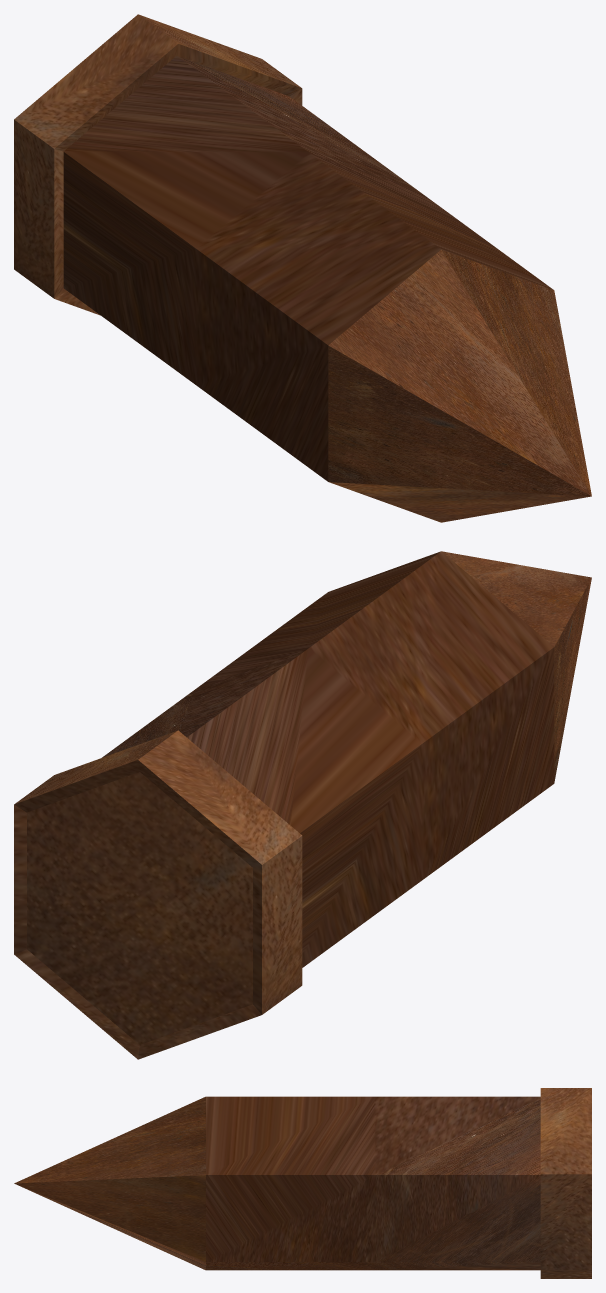
The model's file is bullet.fbx.
3 views of the same model, one above another, from view 1: azimuth 30°, elevation 25°; view 2: azimuth 150°, elevation 25°; view 3: azimuth 270°, elevation 25° (orthographic). The views are drawn at different scales.
Visible parts, largest first — view 1: BODY; view 2: BODY; view 3: BODY.
Part boxes in pixels (x1,y1,x2,y2): BODY: (14,14,591,522); BODY: (14,551,591,1059); BODY: (14,1088,591,1278).
Bounding box in the file's own units: 95.07 × 110 × 301.
